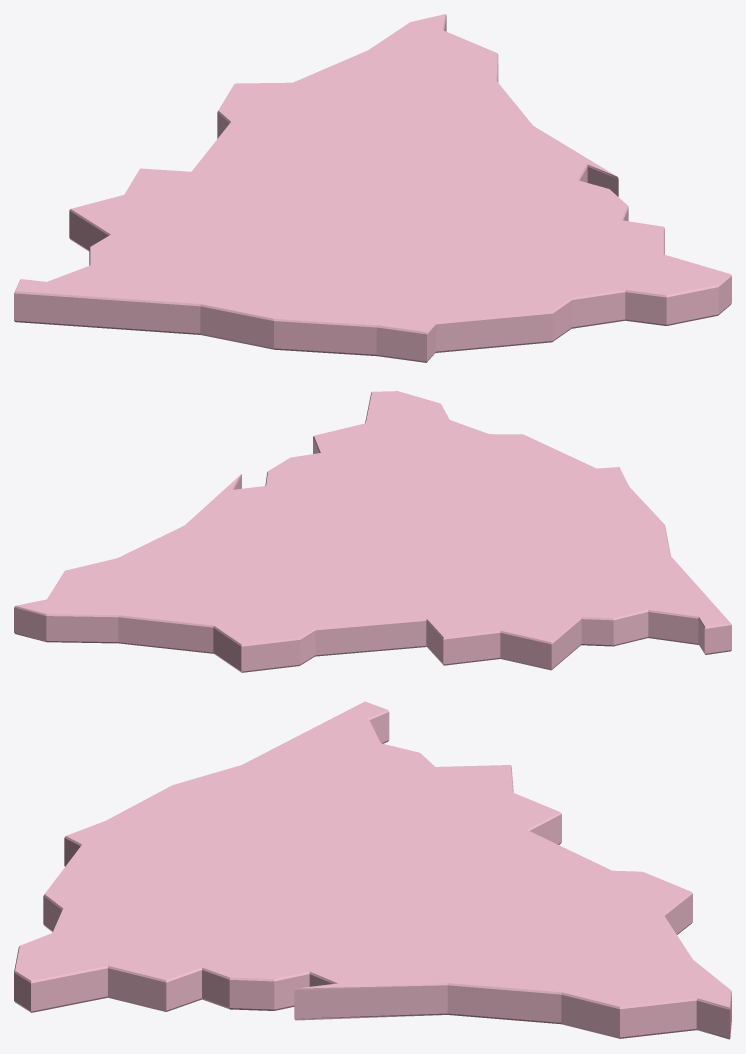
Rendered from NIC.glb.
3 renders of one model, top to bottom at view 1: azimuth 30°, elevation 25°; view 2: azimuth 150°, elevation 25°; view 3: azimuth 270°, elevation 25°, orthographic. The views are drawn at different scales.
Bounding box in the file's own units: 1.4 × 0.068 × 1.38.
